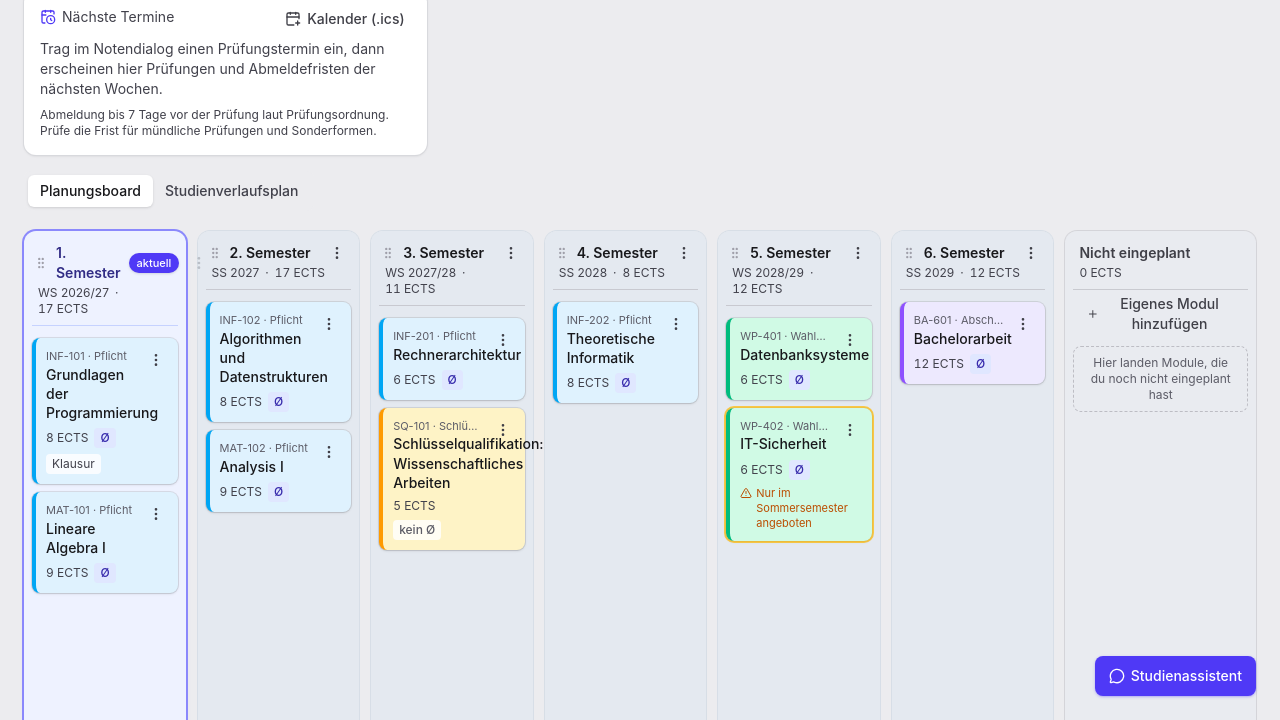
Test: module details dialog › leads with the description and joins lines the PDF broke
This screenshot has width=1280, height=720.
(page scrolled)
Click the button named "Aktionen für Grundlagen der Programmierung".
click(156, 360)  # box [140,344,172,376]
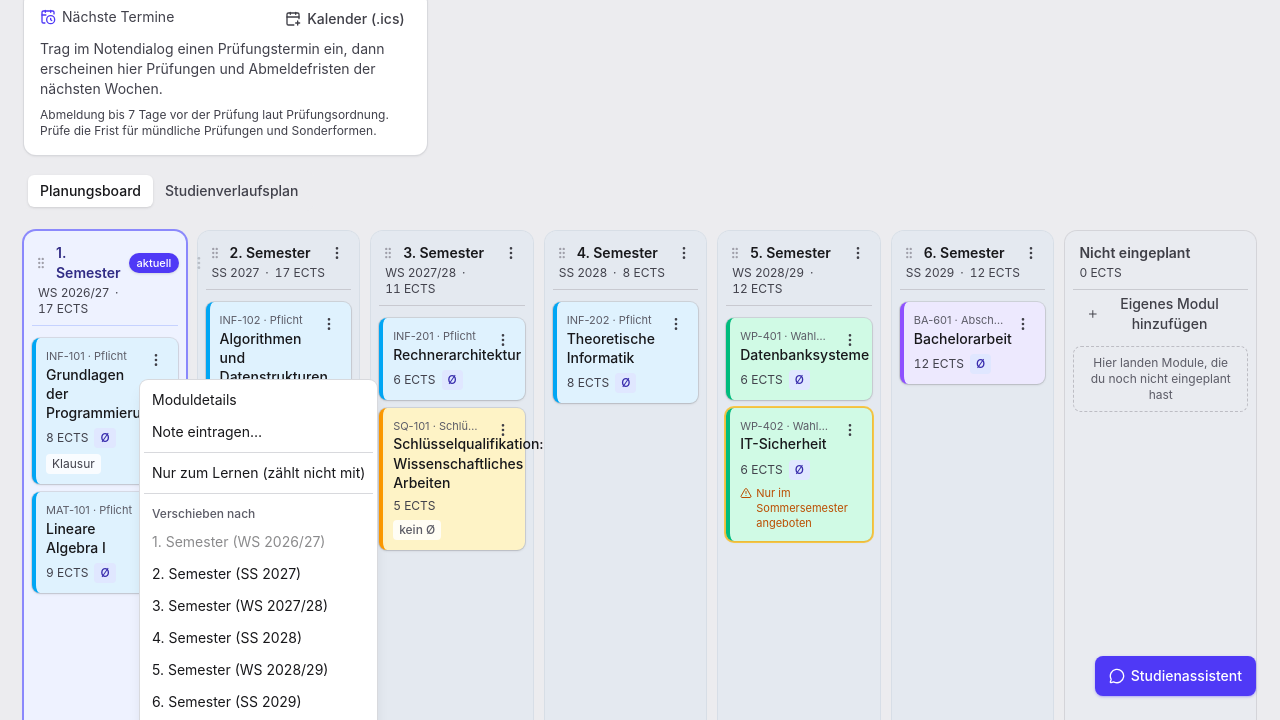
Click the menu item "Moduldetails".
click(194, 400)  # box [152,391,237,408]
(page scrolled)
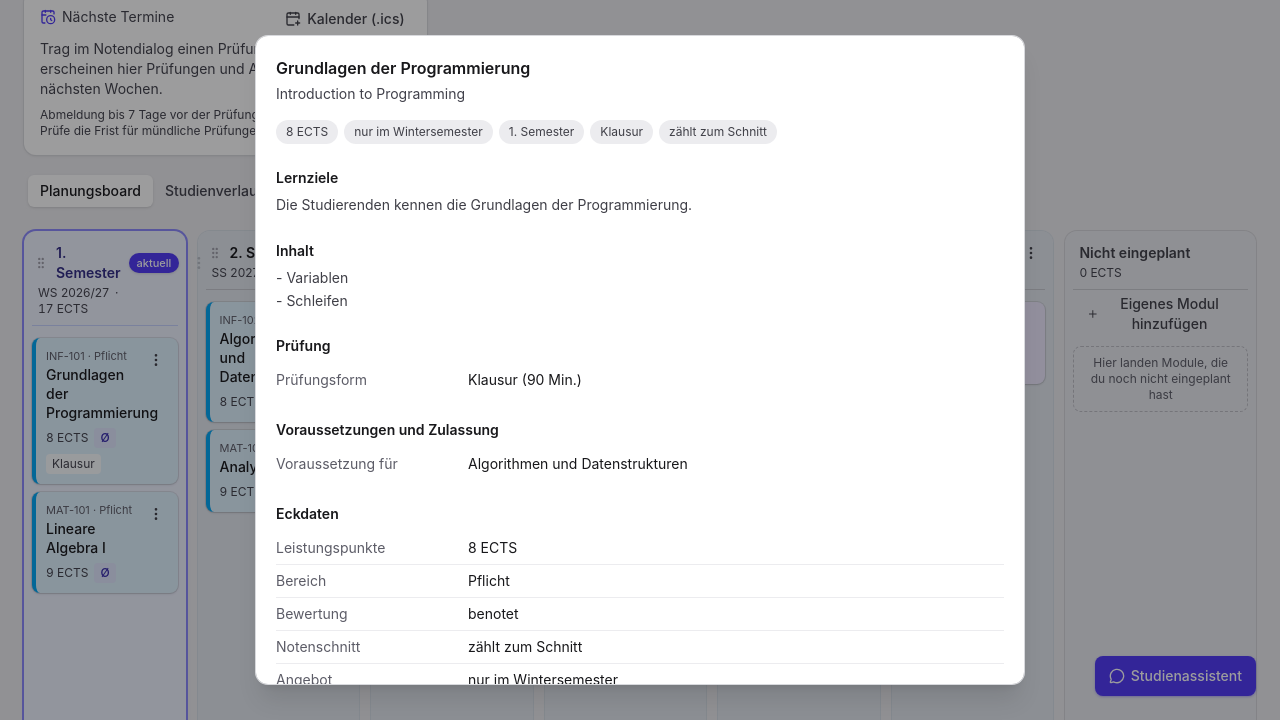
Check: the text "Die Studierenden kennen die Grundlagen der Programmierung." is shown, box [276,196,692,213]
